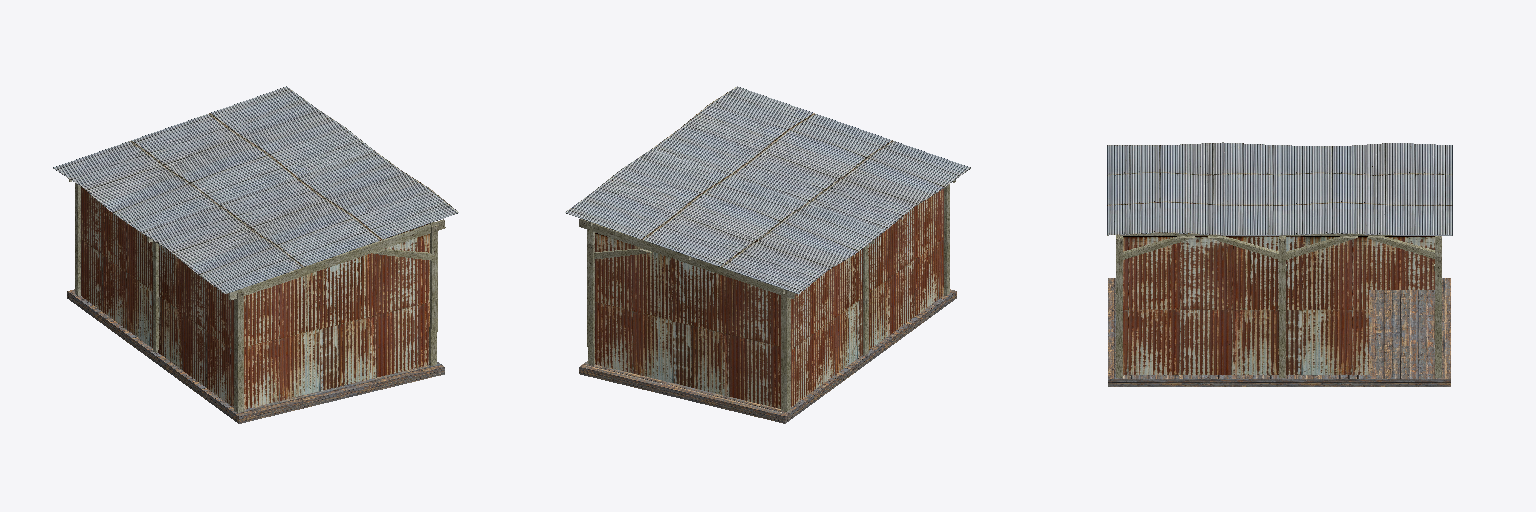
3 renders of one model, left to right at view 1: azimuth 30°, elevation 25°; view 2: azimuth 150°, elevation 25°; view 3: azimuth 270°, elevation 25°, orthographic.
Visible parts, largest first — view 1: Untitled.001_steelroof, Untitled.003_rust, Untitled.002_woodplank, Untitled_woodfloor; view 2: Untitled.001_steelroof, Untitled.003_rust, Untitled.002_woodplank, Untitled_woodfloor; view 3: Untitled.003_rust, Untitled.001_steelroof, Untitled_woodfloor, Untitled.002_woodplank.
Part boxes in pixels (x1,y1,x2,y2): Untitled.001_steelroof: (53,86,458,293); Untitled.003_rust: (81,187,429,408); Untitled.002_woodplank: (68,178,445,412); Untitled_woodfloor: (67,289,444,423); Untitled.001_steelroof: (565,86,970,293); Untitled.003_rust: (595,189,943,408); Untitled.002_woodplank: (579,180,955,411); Untitled_woodfloor: (579,289,956,423); Untitled.003_rust: (1123,236,1434,374); Untitled.001_steelroof: (1107,142,1452,235); Untitled_woodfloor: (1108,278,1450,386); Untitled.002_woodplank: (1116,233,1441,377).
Bounding box in the file's own units: 5.84 × 3.85 × 7.46.
Materials: 4 (4 with a texture image).